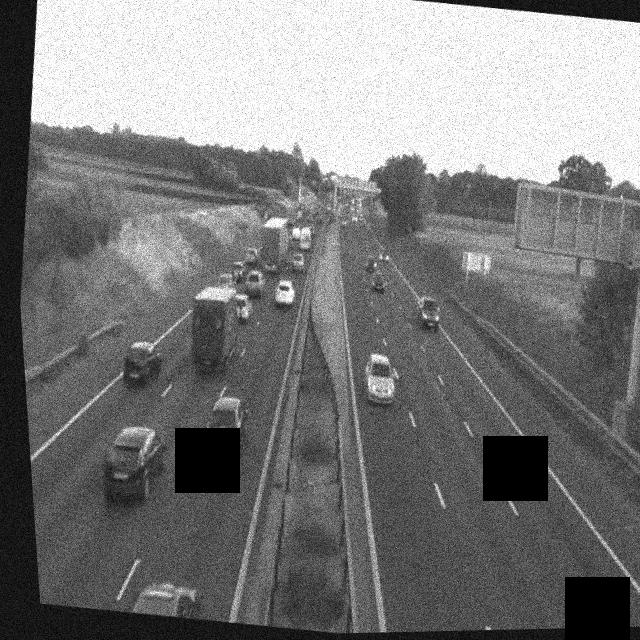car: (96, 422, 172, 506), (199, 394, 253, 462), (125, 575, 203, 620), (119, 339, 165, 388), (359, 352, 398, 405), (414, 294, 444, 331), (230, 291, 252, 324), (273, 277, 296, 308), (243, 269, 267, 298), (227, 261, 247, 285), (369, 268, 387, 291), (242, 245, 259, 268), (288, 251, 305, 271), (361, 254, 377, 273), (377, 247, 389, 262), (311, 213, 322, 227), (338, 216, 346, 227)
truck: (184, 282, 246, 375), (254, 214, 289, 272), (295, 225, 314, 250)
